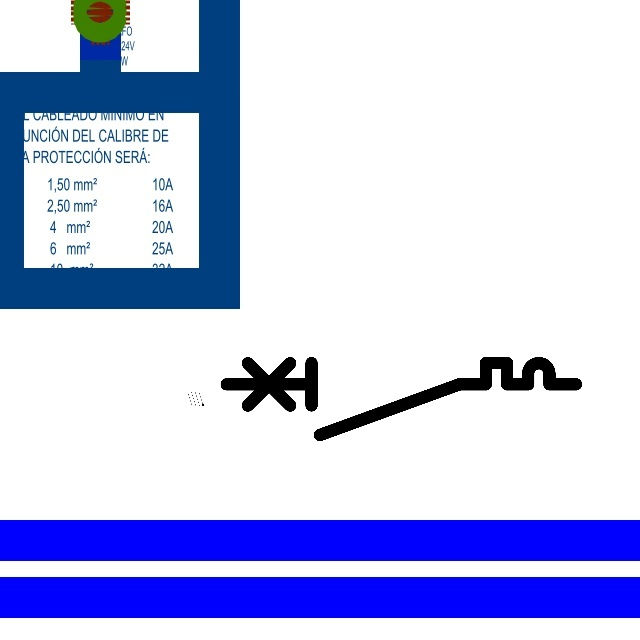interruptor_termomagnetico: (217, 354, 585, 444)
